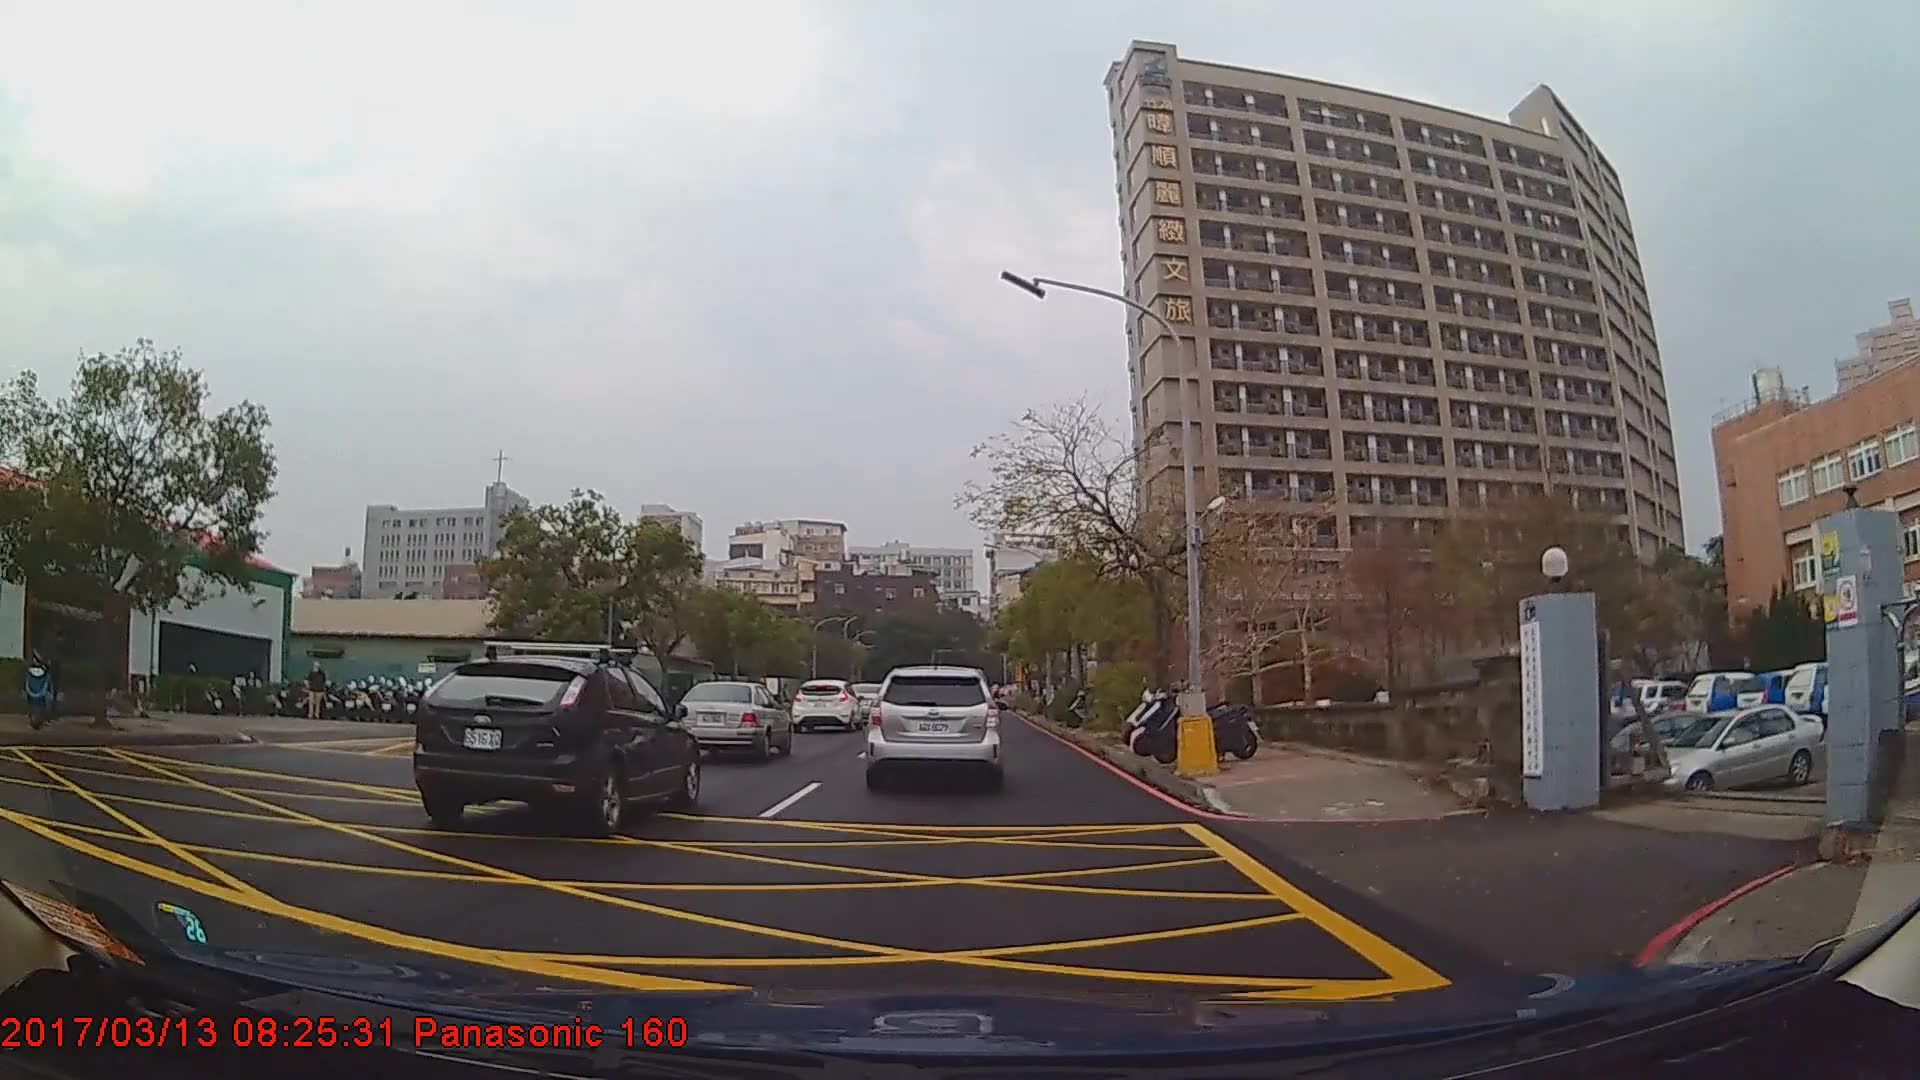pedestrian: (307, 663, 327, 720)
vehicle: (409, 654, 698, 836), (1635, 702, 1829, 792), (866, 665, 999, 789), (671, 680, 793, 763), (790, 680, 862, 736)
